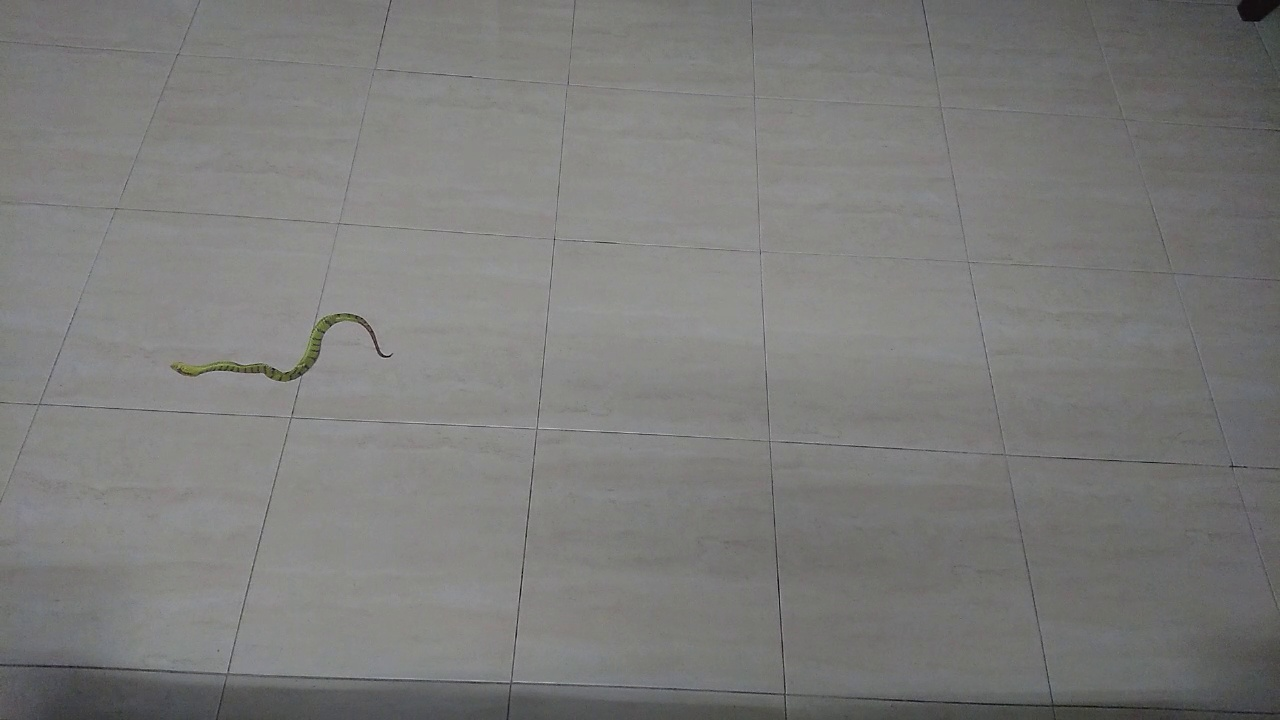snake: (151, 296, 408, 401)
